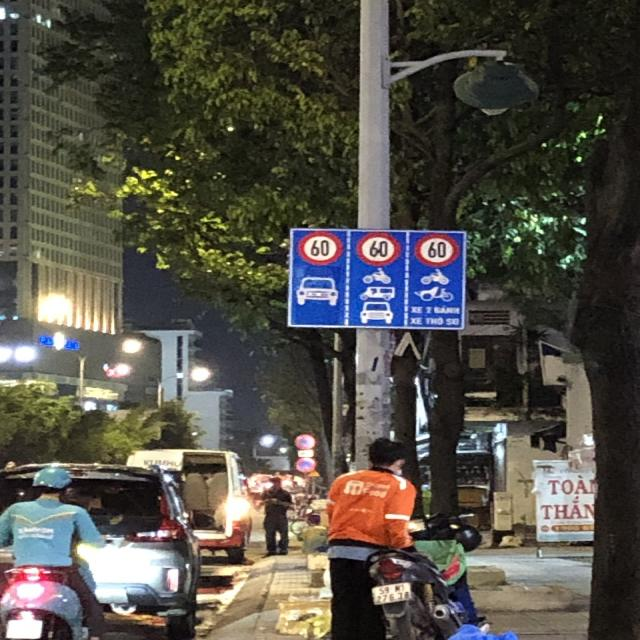Bien bao toc do toi da cho phep: (409, 227, 464, 270), (353, 227, 406, 270), (293, 225, 344, 269)
